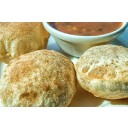poori: (1, 50, 75, 108), (79, 45, 128, 100), (1, 22, 49, 63)
